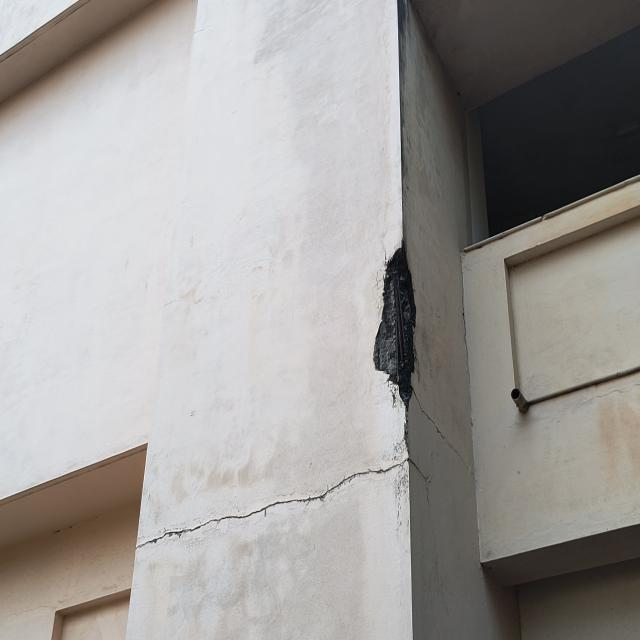Crack: (136, 452, 429, 553), (412, 381, 471, 473), (459, 251, 469, 362)
Spalling: (374, 246, 416, 408)
